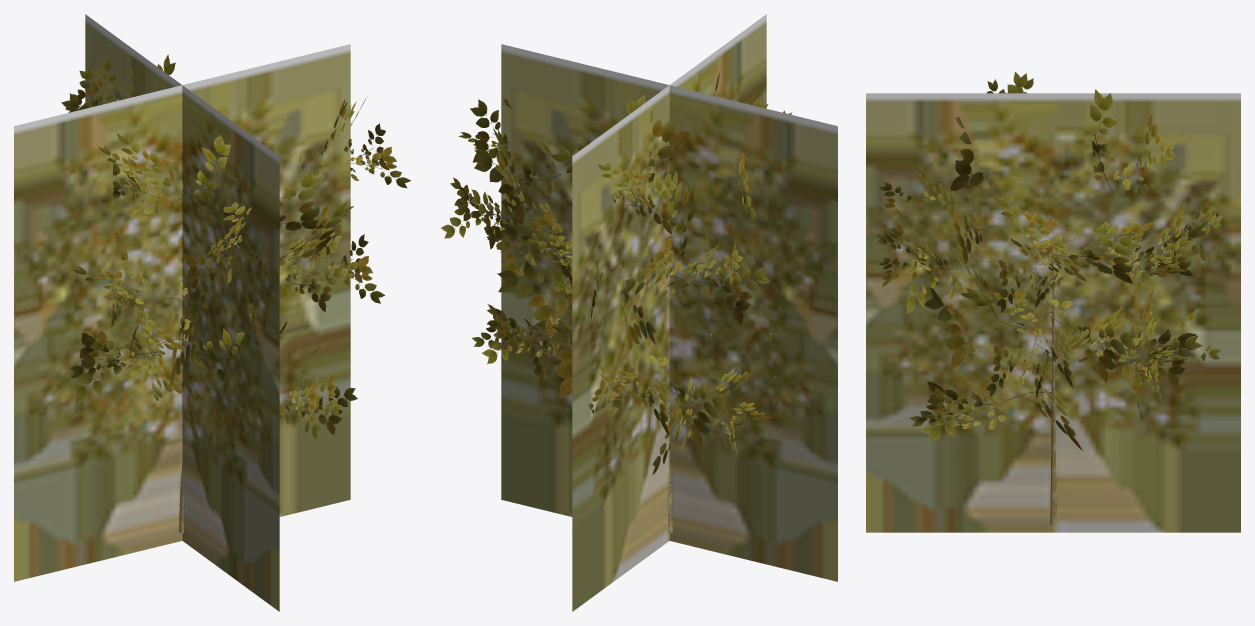
File: Shrub1-1B.fbx
3 views of the same model, side by side, from view 1: azimuth 30°, elevation 25°; view 2: azimuth 150°, elevation 25°; view 3: azimuth 270°, elevation 25° (orthographic). The views are drawn at different scales.
Visible parts, largest first — view 1: Billboard-Shrub1-1B, Shrub1-1B_LOD0; view 2: Billboard-Shrub1-1B, Shrub1-1B_LOD0; view 3: Billboard-Shrub1-1B, Shrub1-1B_LOD0.
Part boxes in pixels (x1,y1,x2,y2): Billboard-Shrub1-1B: (14,14,350,611); Shrub1-1B_LOD0: (61,54,410,533); Billboard-Shrub1-1B: (501,14,837,611); Shrub1-1B_LOD0: (441,71,792,533); Billboard-Shrub1-1B: (866,93,1240,532); Shrub1-1B_LOD0: (876,72,1225,525).
Size of what is drawn, in the model's own units: 285 by 336 by 252.
